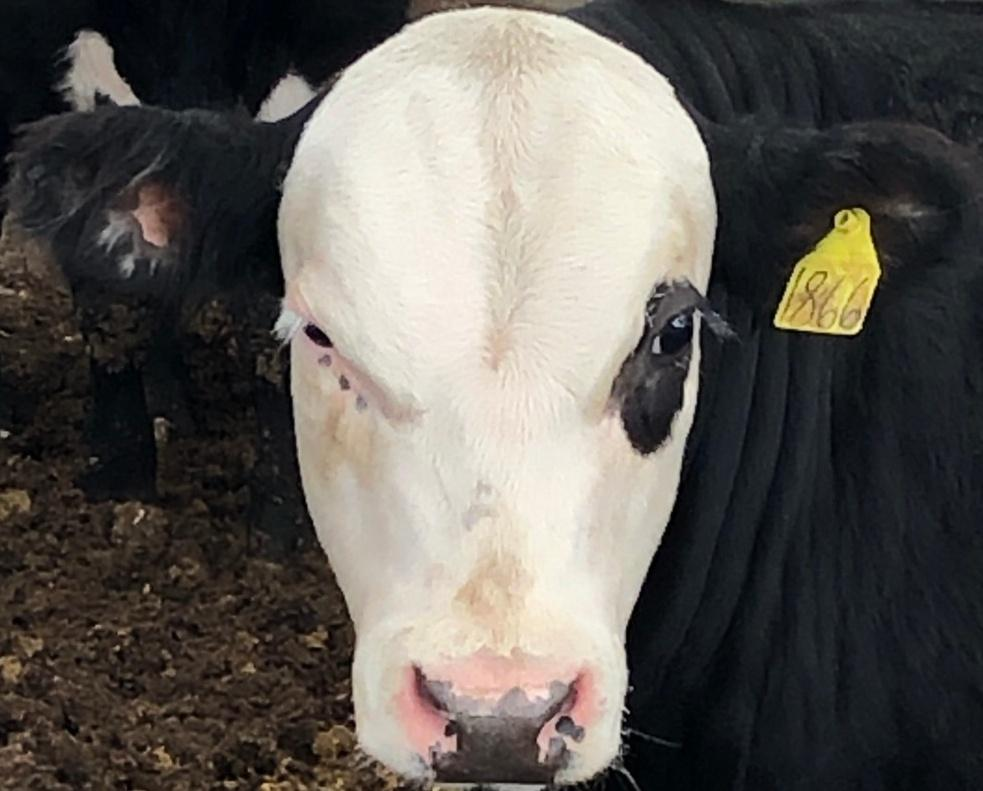muzzles: (344, 639, 647, 791)
